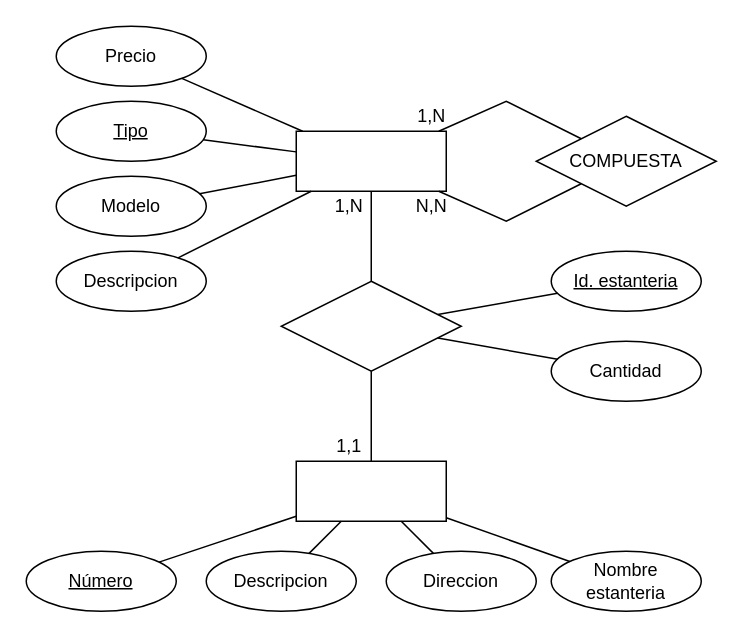
Image size: 743x638. Some labels were removed from this diagram. Here are the shapes that lost their labels. From the top down, the box of each, then its label:
(295, 130, 446, 191): PIEZA
(280, 280, 461, 371): ALMACENA
(295, 460, 446, 521): ALMACEN
